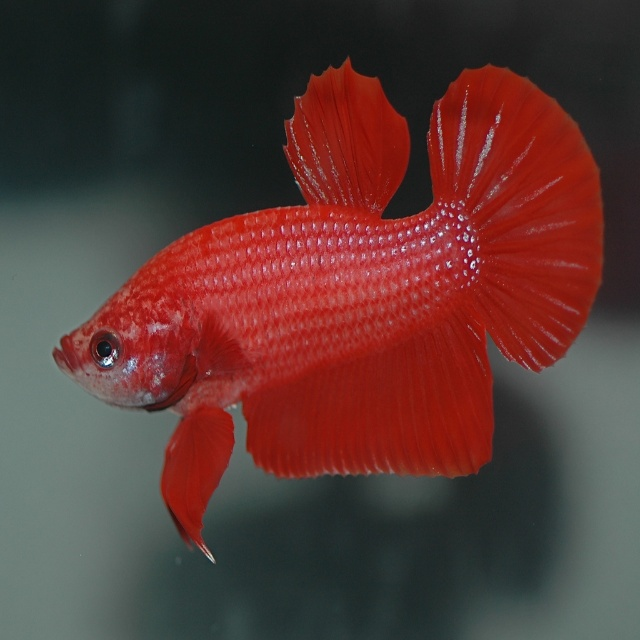Goldfish: (57, 58, 606, 561)
